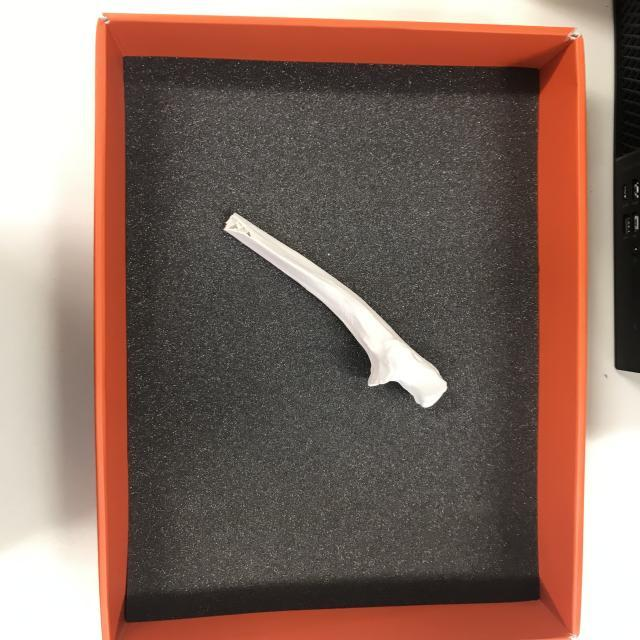bone: (222, 208, 453, 418)
